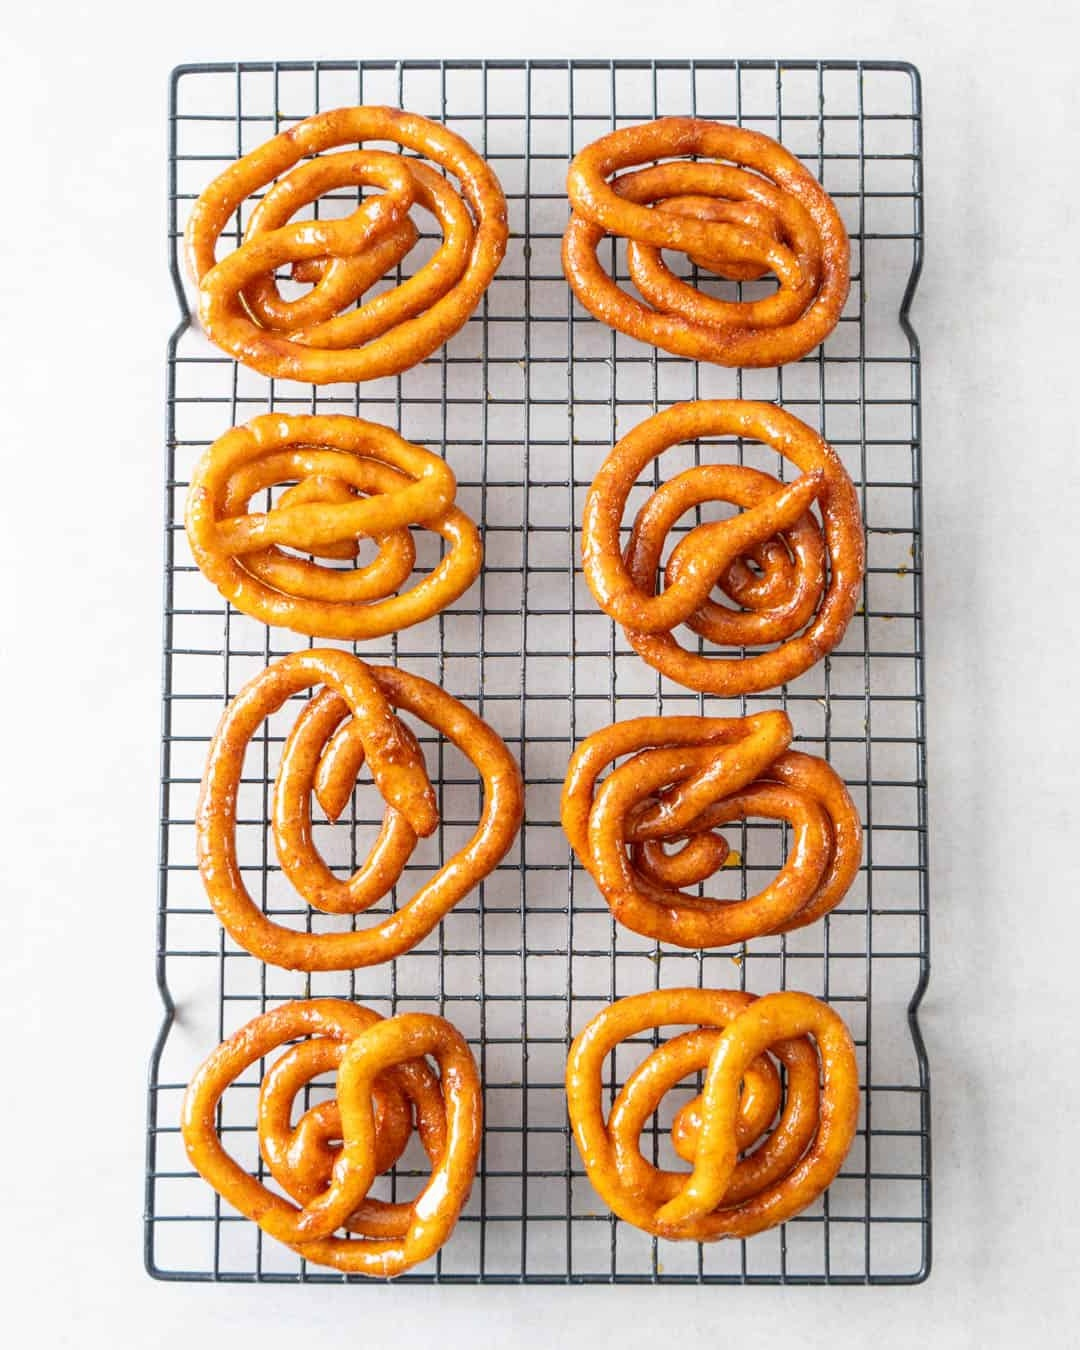pani_walalu: (198, 644, 518, 964), (187, 105, 507, 382), (580, 398, 875, 697), (178, 992, 481, 1274), (564, 984, 863, 1243), (546, 710, 861, 944), (559, 121, 845, 363), (192, 416, 486, 639)
